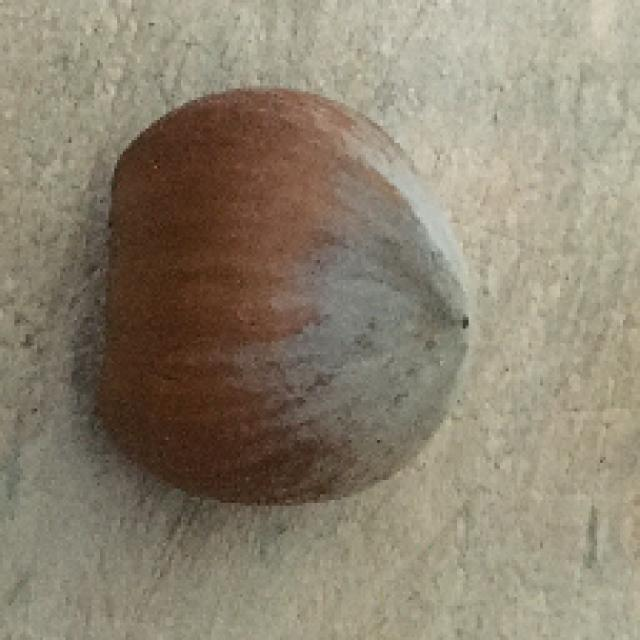QualityHazelnut: (65, 87, 478, 508)
